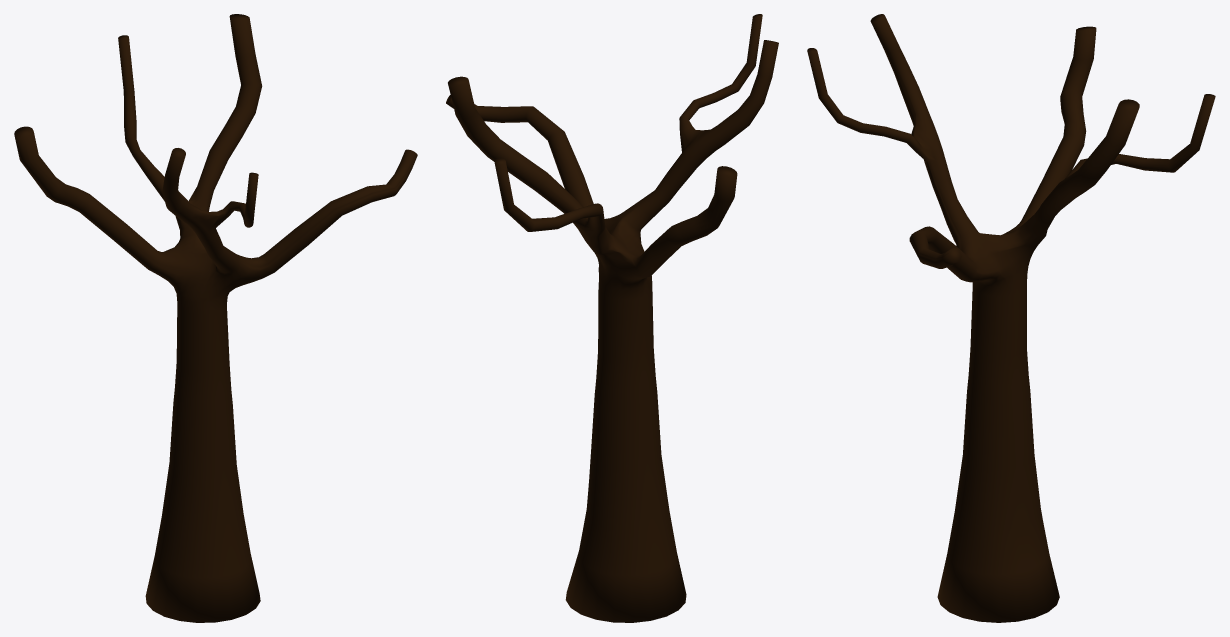
The model's file is arvore.fbx.
3 views of the same model, side by side, from view 1: azimuth 30°, elevation 25°; view 2: azimuth 150°, elevation 25°; view 3: azimuth 270°, elevation 25° (orthographic). The views are drawn at different scales.
Visible parts, largest first — view 1: Cylinder; view 2: Cylinder; view 3: Cylinder.
Boxes of the visible parts, bbox=[...] form: Cylinder: bbox=[14, 14, 417, 622]; Cylinder: bbox=[446, 14, 778, 622]; Cylinder: bbox=[807, 14, 1215, 622].
Size of the model in its own units: 444 by 645 by 439.
